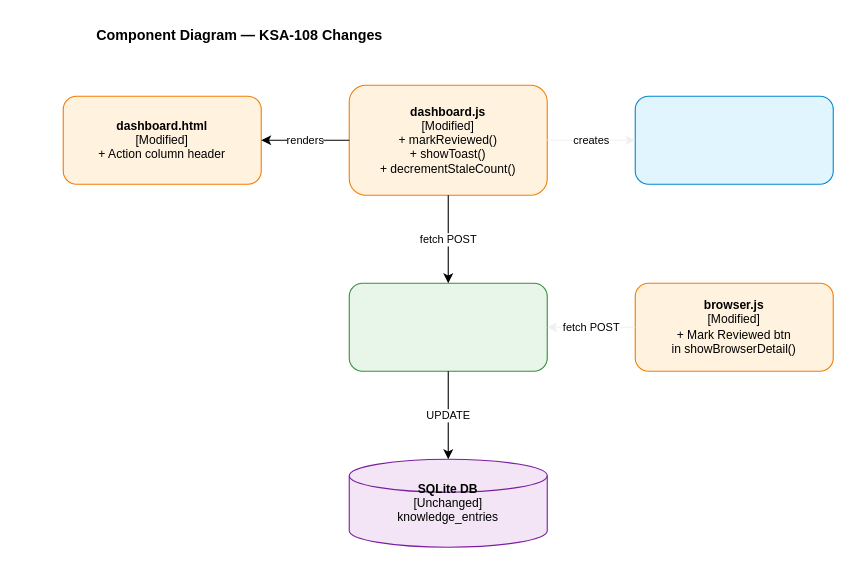
The diagram is 853 pixels wide and 567 high, and some of its shapes have lost their labels. The shapes that lost their labels are listed below. From the top down, each one's centre as x and y in pixels, then its label:
At [733,139]: "Toast Container [New — dynamic DOM] Success/Error notifications".
At [447,326]: "UxRoutes [Unchanged] POST /api/kb/entries/{id}/review".
